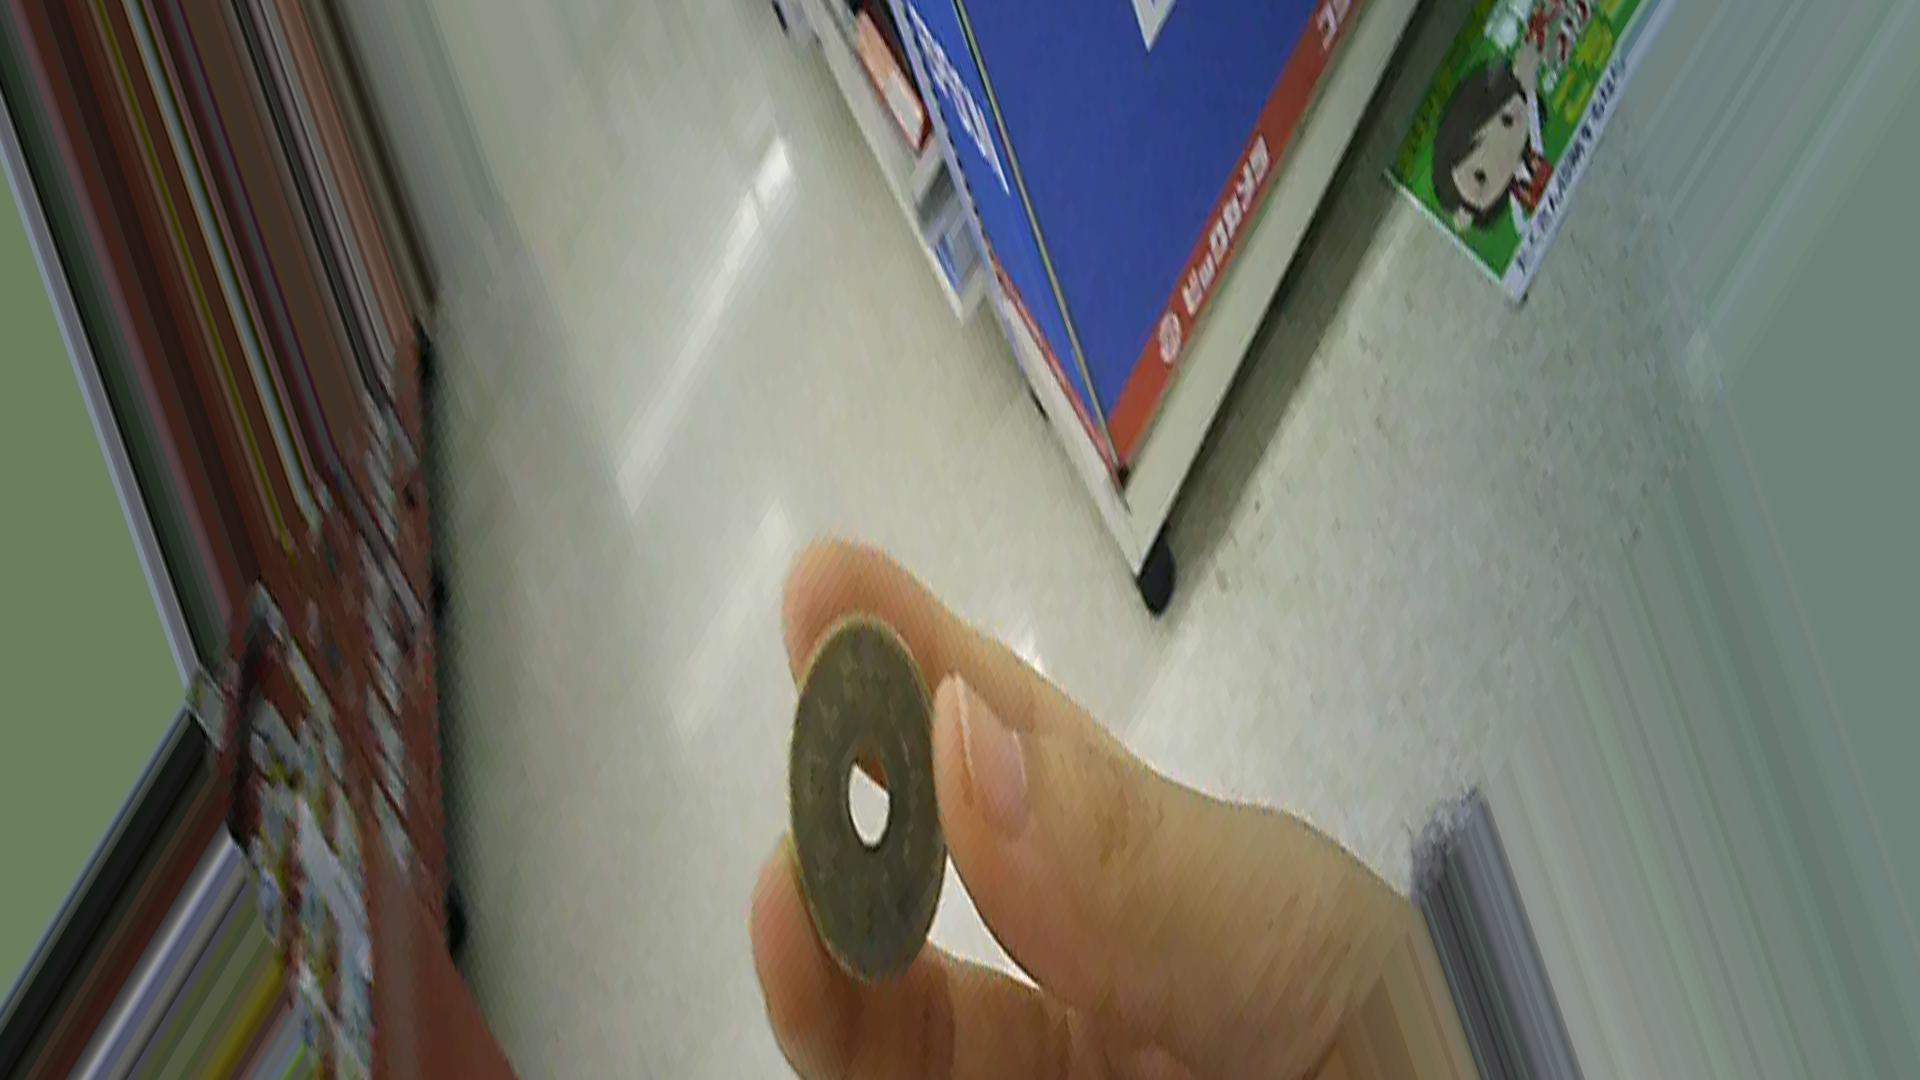5 Yen: (765, 611, 960, 982)
